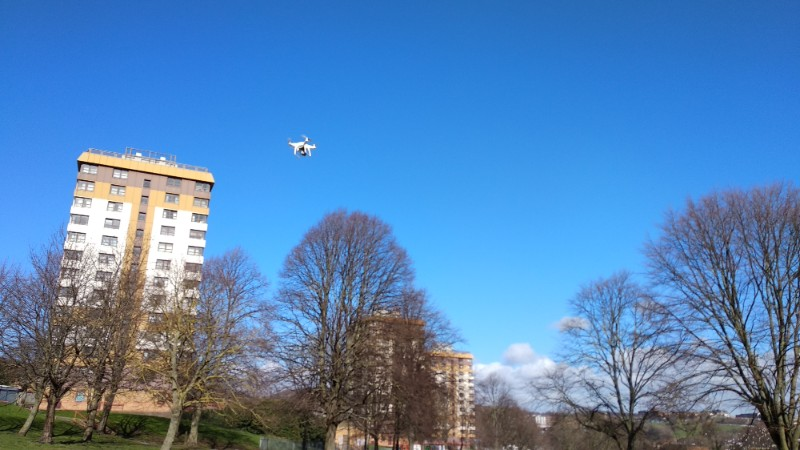drone: (284, 134, 317, 158)
